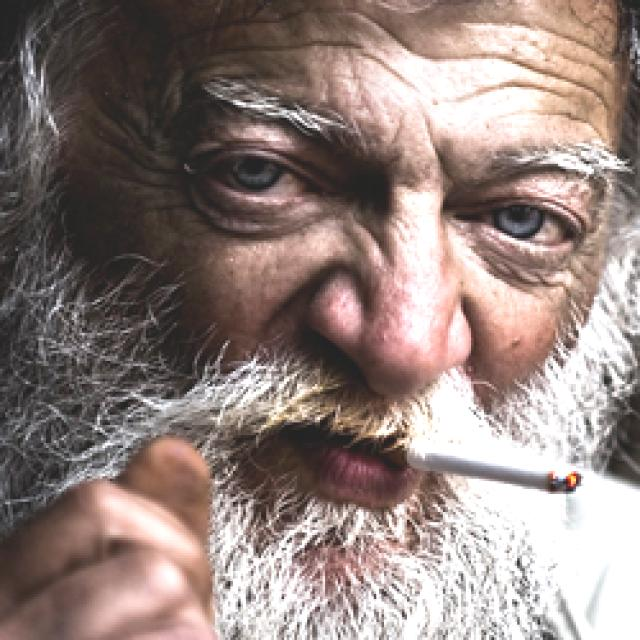Smooking: (391, 407, 595, 502)
